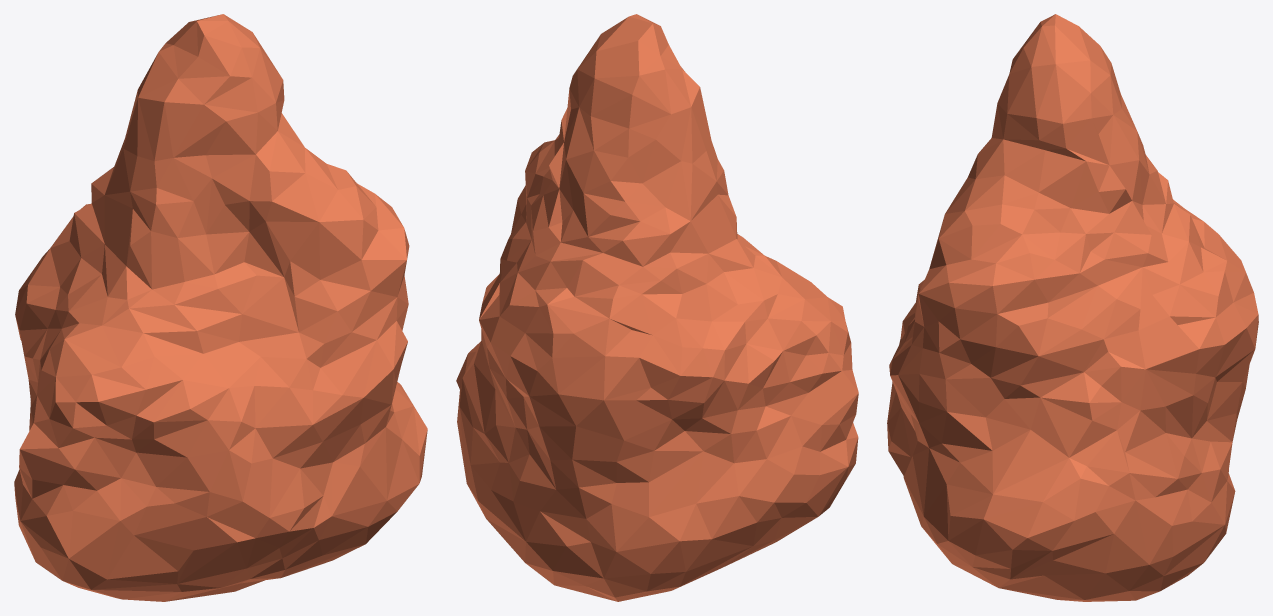
File: _ock.fbx
3 renders of one model, left to right at view 1: azimuth 30°, elevation 25°; view 2: azimuth 150°, elevation 25°; view 3: azimuth 270°, elevation 25°, orthographic. The views are drawn at different scales.
Visible parts, largest first — view 1: Cube.005; view 2: Cube.005; view 3: Cube.005.
Part boxes in pixels (x1,y1,x2,y2): Cube.005: (14, 14, 427, 601); Cube.005: (456, 14, 858, 601); Cube.005: (887, 14, 1258, 601).
Size of the model in its own units: 221 by 304 by 180.
